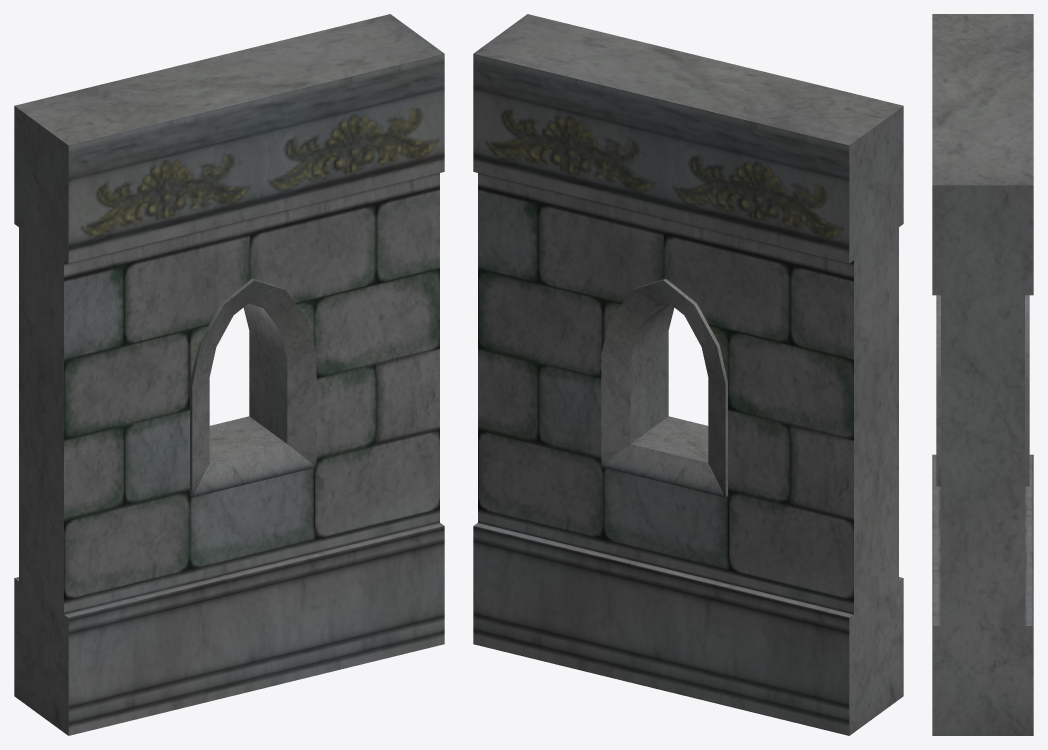
Rendered from wall_small_02.glb.
The picture shows the model from 3 angles, left to right: view 1: azimuth 30°, elevation 25°; view 2: azimuth 150°, elevation 25°; view 3: azimuth 270°, elevation 25°; orthographic projection. The views are drawn at different scales.
Visible parts, largest first — view 1: wall_small_02; view 2: wall_small_02; view 3: wall_small_02.
Boxes of the visible parts, bbox=[...] form: wall_small_02: bbox=[14, 14, 444, 735]; wall_small_02: bbox=[473, 14, 903, 735]; wall_small_02: bbox=[932, 14, 1033, 735].
Size of the model in its own units: 2 by 3 by 0.5.
1 material, 1 textured.
